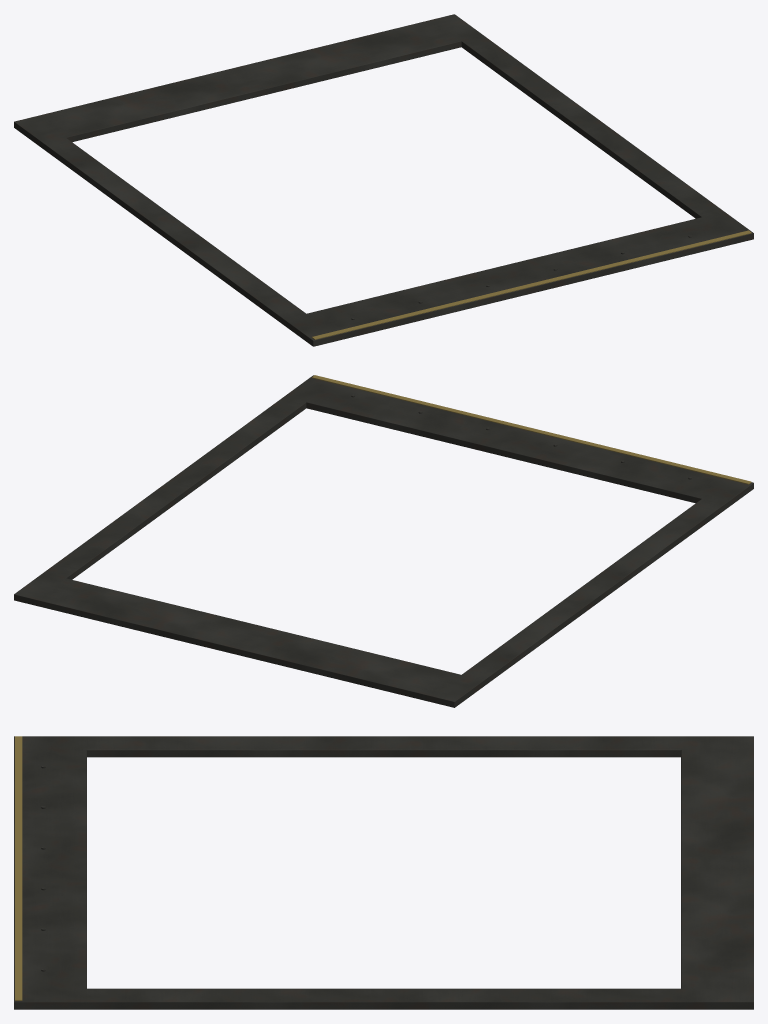
The model's file is ELEVATOR_LandingApron.fbx.
3 renders of one model, top to bottom at view 1: azimuth 30°, elevation 25°; view 2: azimuth 150°, elevation 25°; view 3: azimuth 270°, elevation 25°, orthographic. The views are drawn at different scales.
Visible parts, largest first — view 1: ELEVATOR_LandingApron; view 2: ELEVATOR_LandingApron; view 3: ELEVATOR_LandingApron.
Boxes of the visible parts, x1,y1,x2,y2 form: ELEVATOR_LandingApron: [14, 14, 753, 346]; ELEVATOR_LandingApron: [14, 375, 753, 707]; ELEVATOR_LandingApron: [14, 736, 753, 1009].
Bounding box in the file's own units: 3.4 × 0.054 × 4.
